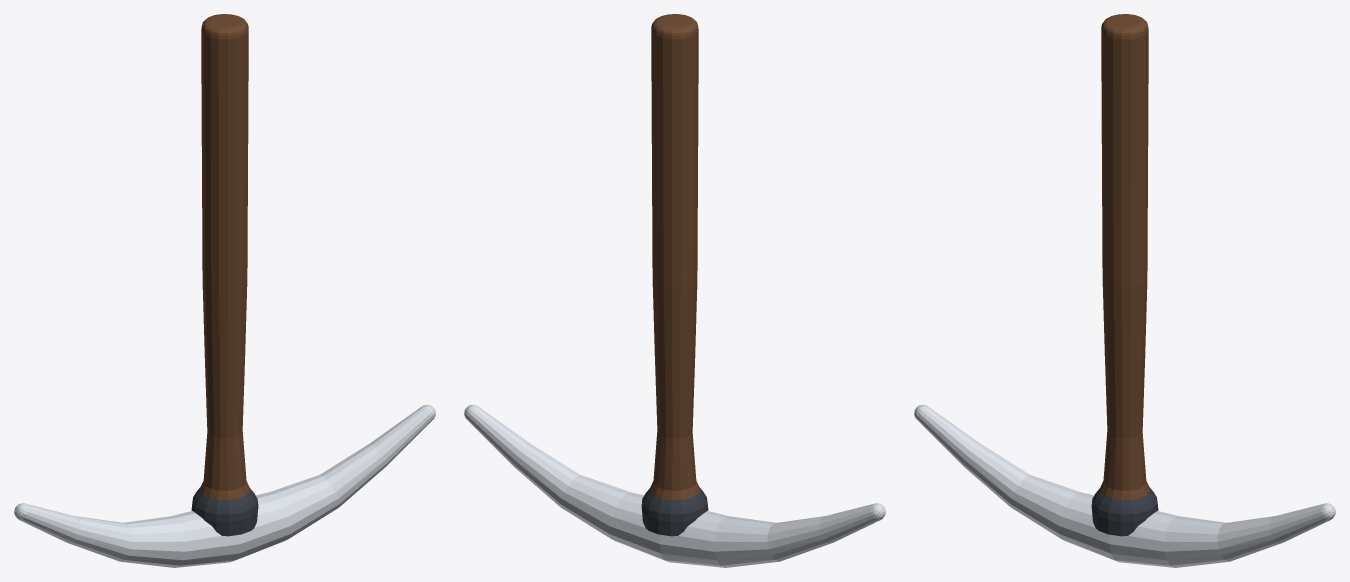
File: PropPickaxe.obj
3 views of the same model, side by side, from view 1: azimuth 30°, elevation 25°; view 2: azimuth 150°, elevation 25°; view 3: azimuth 330°, elevation 25° (orthographic).
Bounding box in the file's own units: 1.62 × 1.99 × 0.226.
